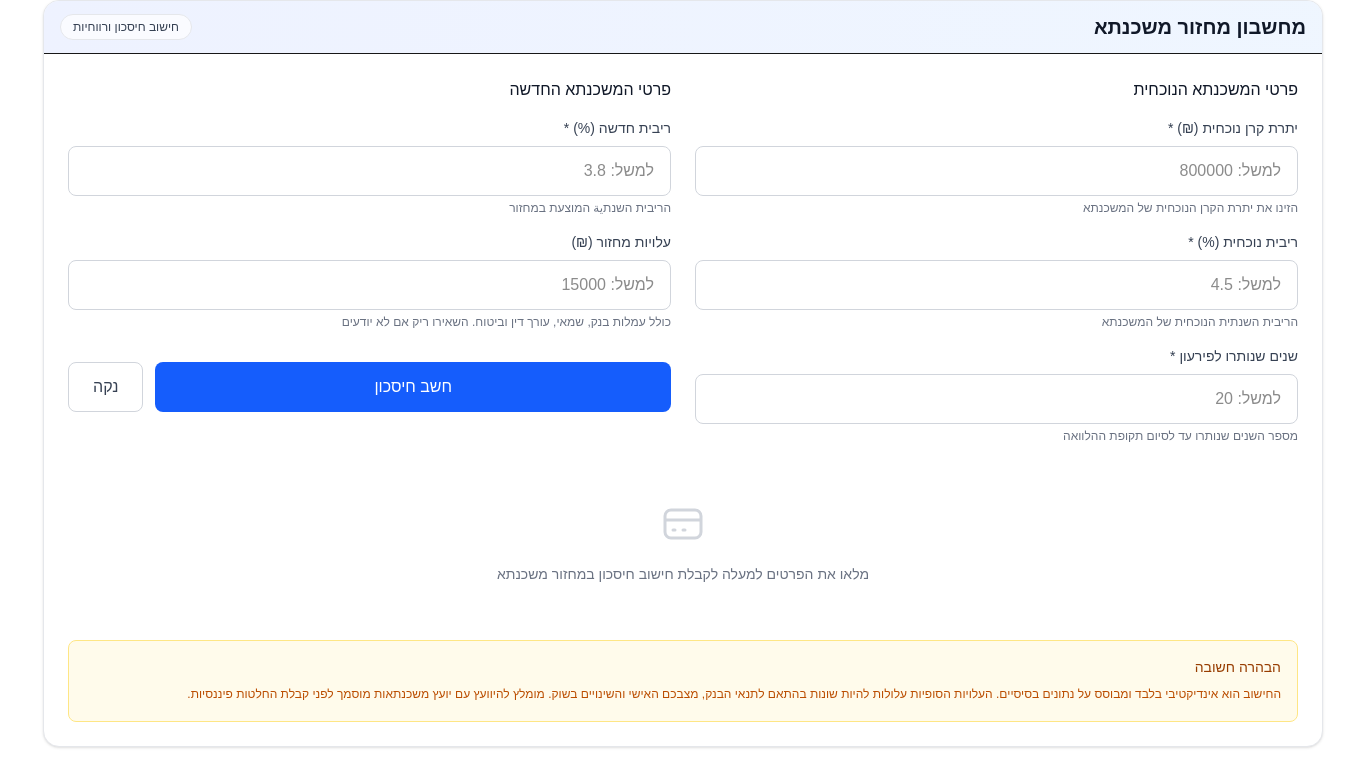
Test: MortgageRefinanceCalculatorEnhanced › Form Validation › shows Hebrew error messages for invalid inputs
# Enter invalid balance
Type "-100000" into the number field labelled "יתרת קרן נוכחית (₪) *" at (996, 171), box [695,146,1298,196]
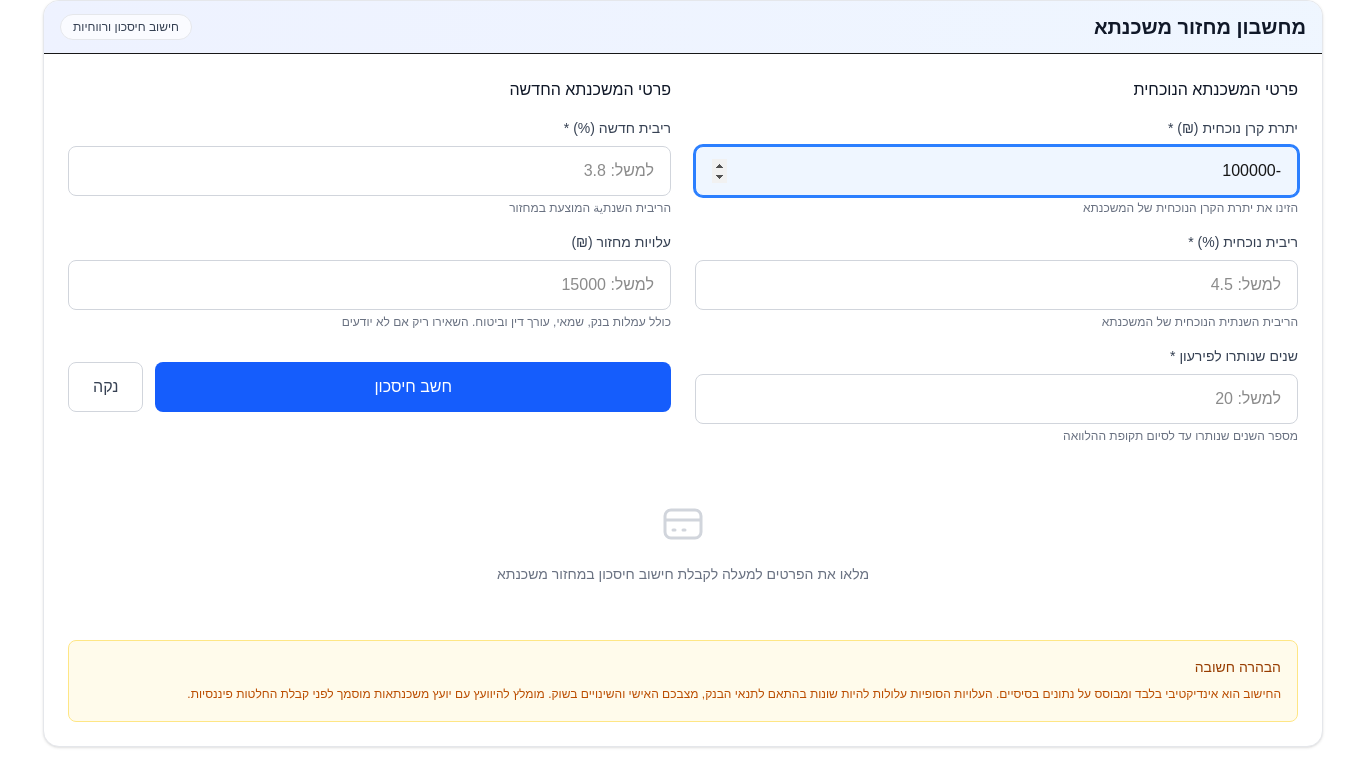
Click the button "חשב חיסכון" at (413, 387), box [156,362,671,412]
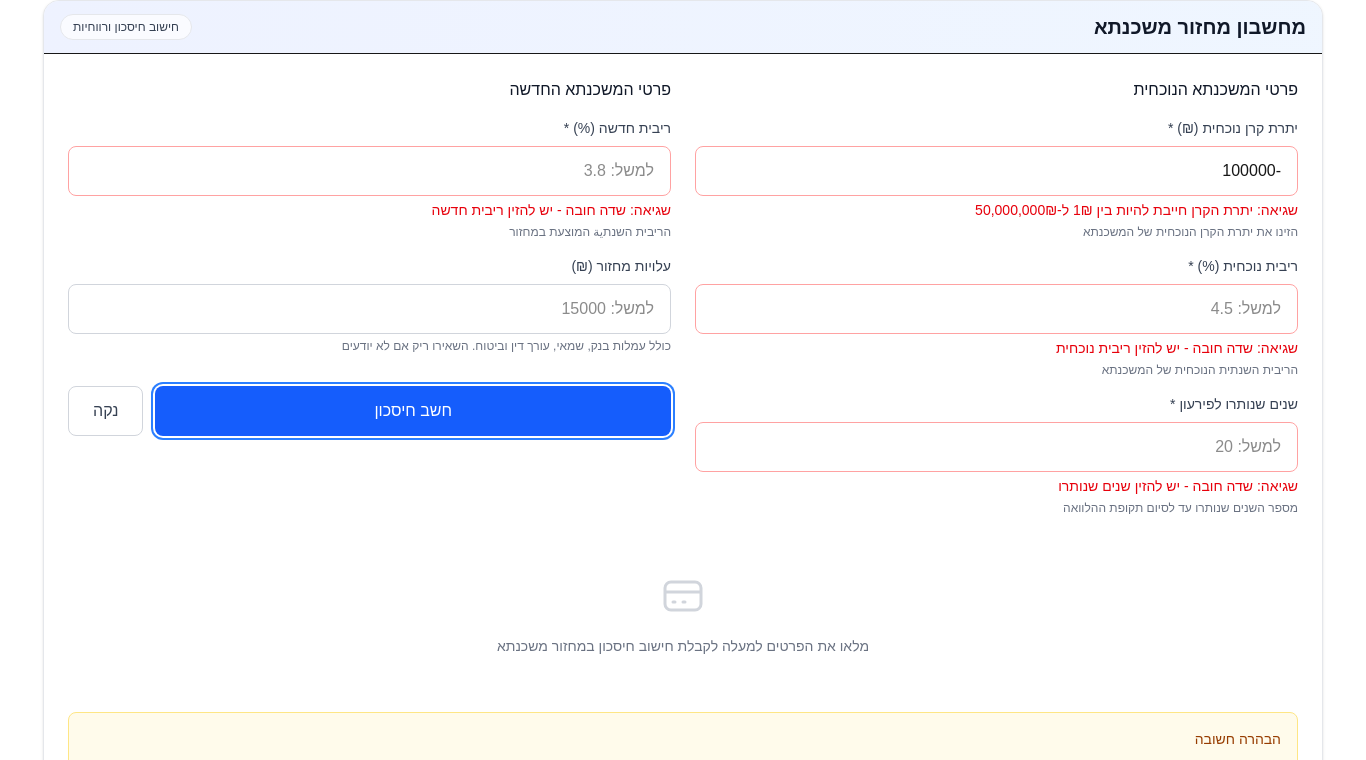
Expected: the text "שגיאה: יתרת הקרן חייבת להיות בין 1₪ ל-50,000,000₪" is shown, [975,202,1298,218]
